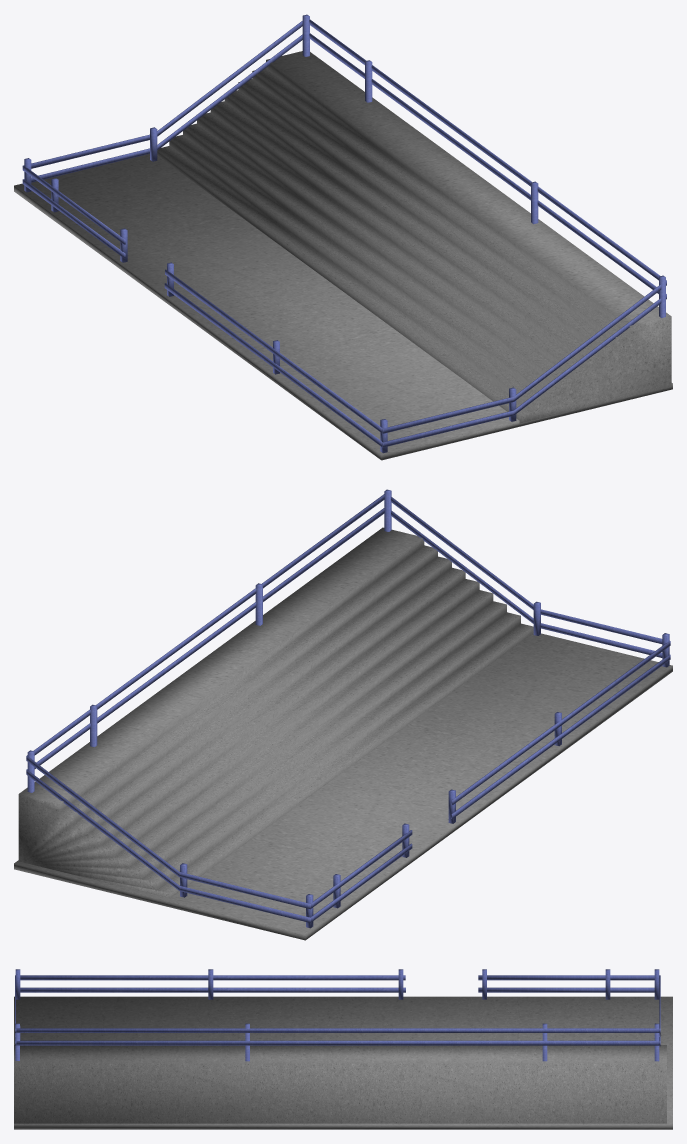
File: stands2.fbx
The picture shows the model from 3 angles, top to bottom: view 1: azimuth 30°, elevation 25°; view 2: azimuth 150°, elevation 25°; view 3: azimuth 270°, elevation 25°; orthographic projection. The views are drawn at different scales.
Visible parts, largest first — view 1: stands; view 2: stands; view 3: stands.
Boxes of the visible parts, bbox=[...] form: stands: bbox=[14, 14, 672, 460]; stands: bbox=[14, 489, 672, 940]; stands: bbox=[14, 969, 672, 1129].
Bounding box in the file's own units: 270 × 100 × 590.
